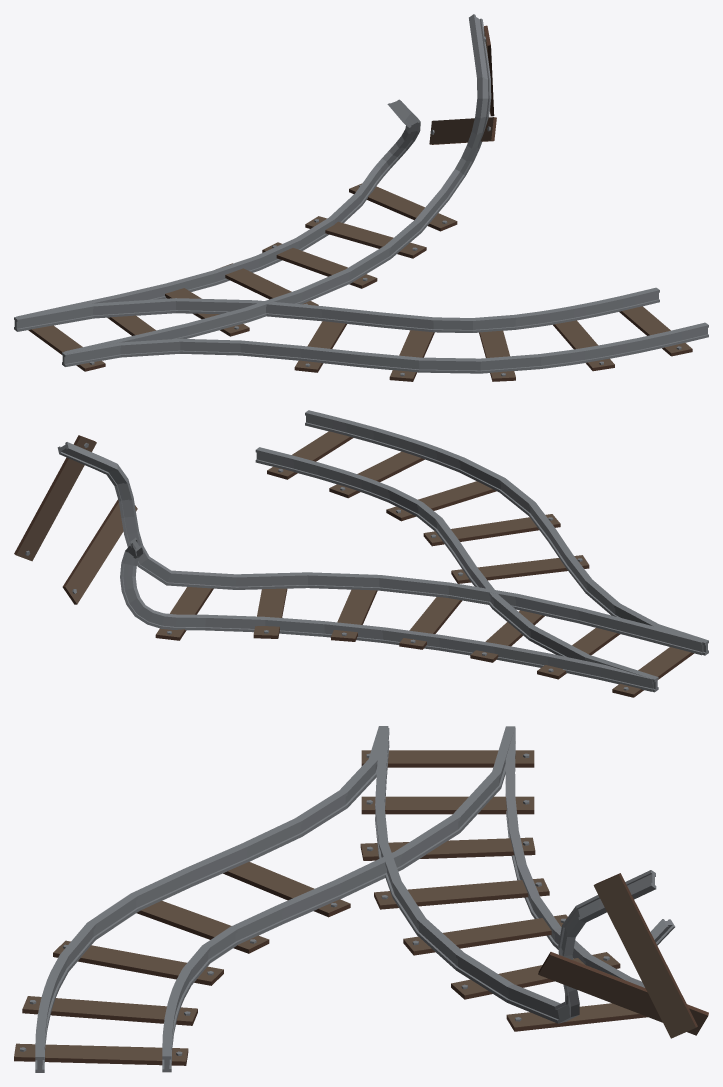
Rendered from Track_CurveRight 1.fbx.
3 views of the same model, one above another, from view 1: azimuth 30°, elevation 25°; view 2: azimuth 150°, elevation 25°; view 3: azimuth 270°, elevation 25° (orthographic). The views are drawn at different scales.
Visible parts, largest first — view 1: CurveRight; view 2: CurveRight; view 3: CurveRight.
Part boxes in pixels (x1,y1,x2,y2): CurveRight: (14, 14, 708, 381); CurveRight: (14, 410, 708, 697); CurveRight: (14, 726, 708, 1072).
Size of the model in its own units: 530 by 148 by 443.
